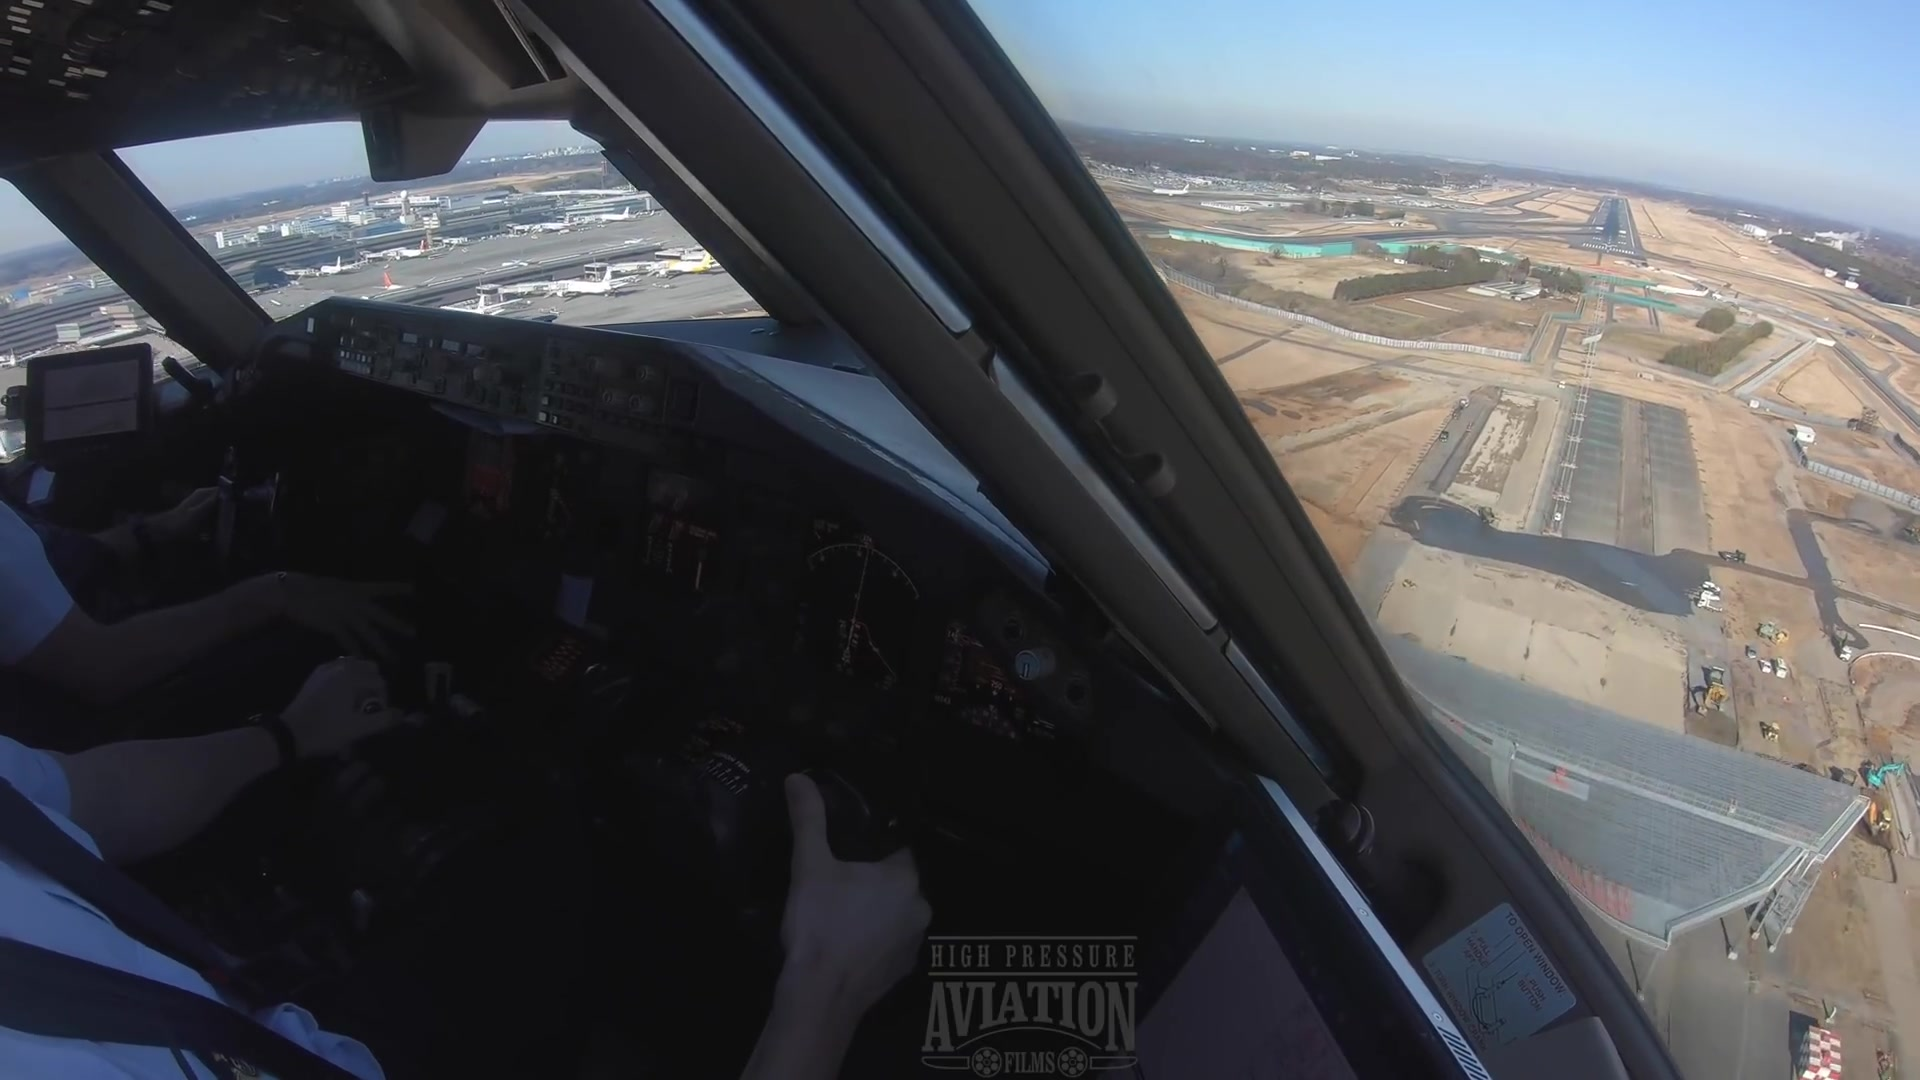entrance: (1581, 241, 1636, 256)
runway: (1571, 196, 1646, 262)
